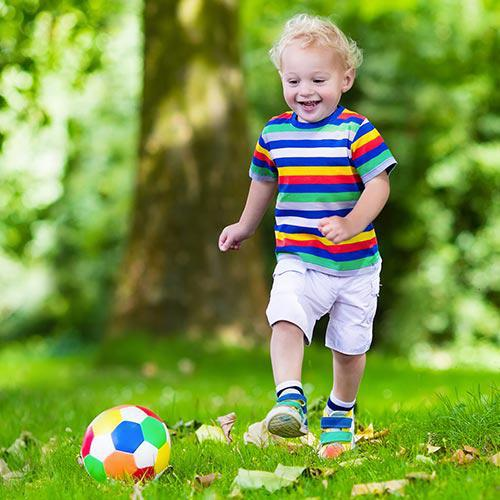child: (199, 8, 410, 453)
